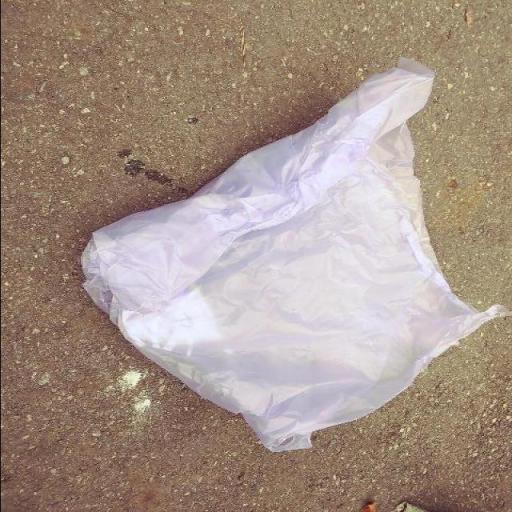plastic-bag: (76, 55, 512, 455)
